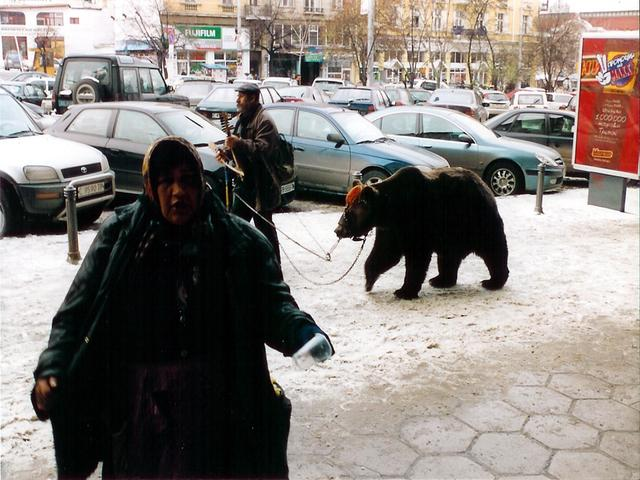bear: (308, 110, 519, 307)
